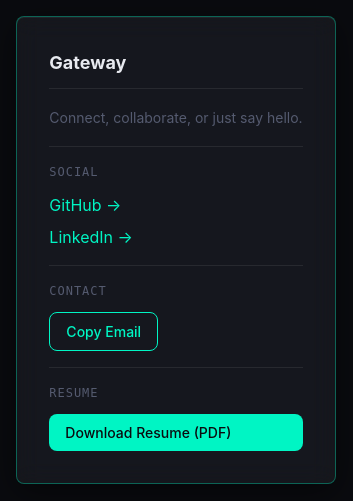
Test: GatewayZone — Email: preferCopy true › Copied! feedback appears after clipboard write
Click the button "Copy Email" at x=104, y=332, box [49,312,158,351]
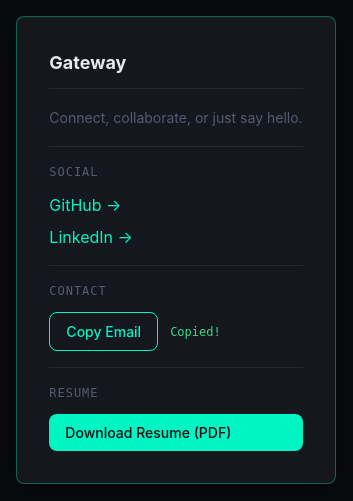
Expected: the text "Copied!" is shown, [170,325,221,339]
